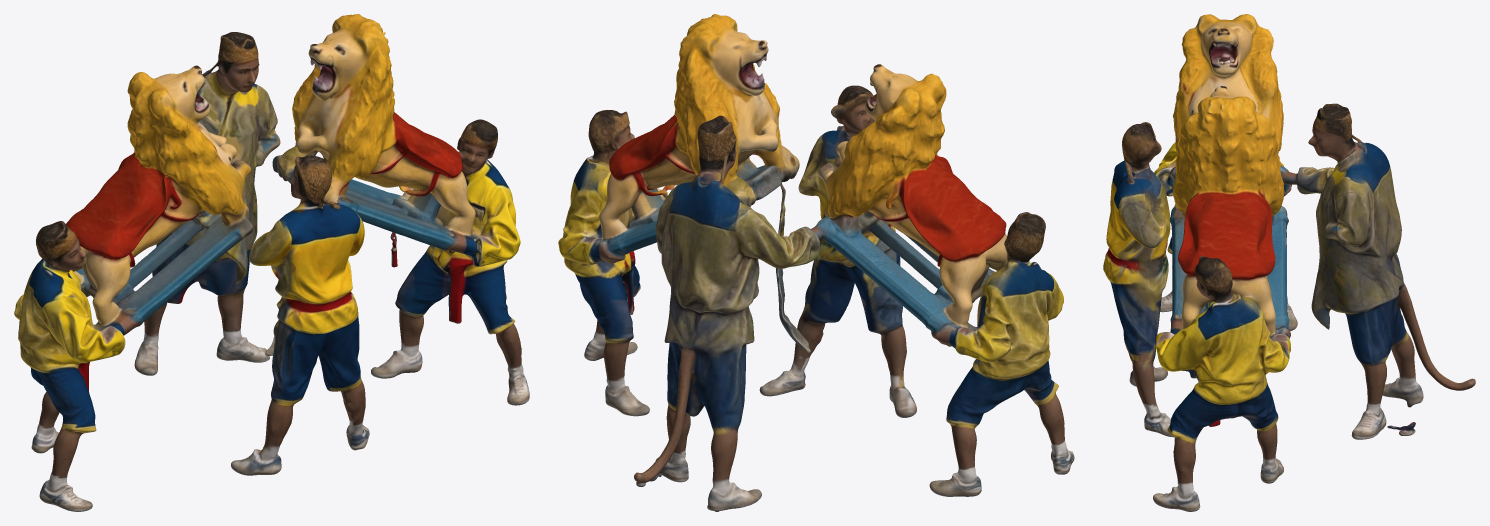
Rendered from atraksi1.glb.
3 renders of one model, left to right at view 1: azimuth 30°, elevation 25°; view 2: azimuth 150°, elevation 25°; view 3: azimuth 270°, elevation 25°, orthographic. The views are drawn at different scales.
Visible parts, largest first — view 1: mesh_node; view 2: mesh_node; view 3: mesh_node.
Boxes of the visible parts, x1,y1,x2,y2 form: mesh_node: (14, 14, 529, 511); mesh_node: (558, 14, 1074, 511); mesh_node: (1103, 14, 1475, 511).
Size of the model in its own units: 1.9 by 1.47 by 1.4.
Materials: 1 (1 with a texture image).
